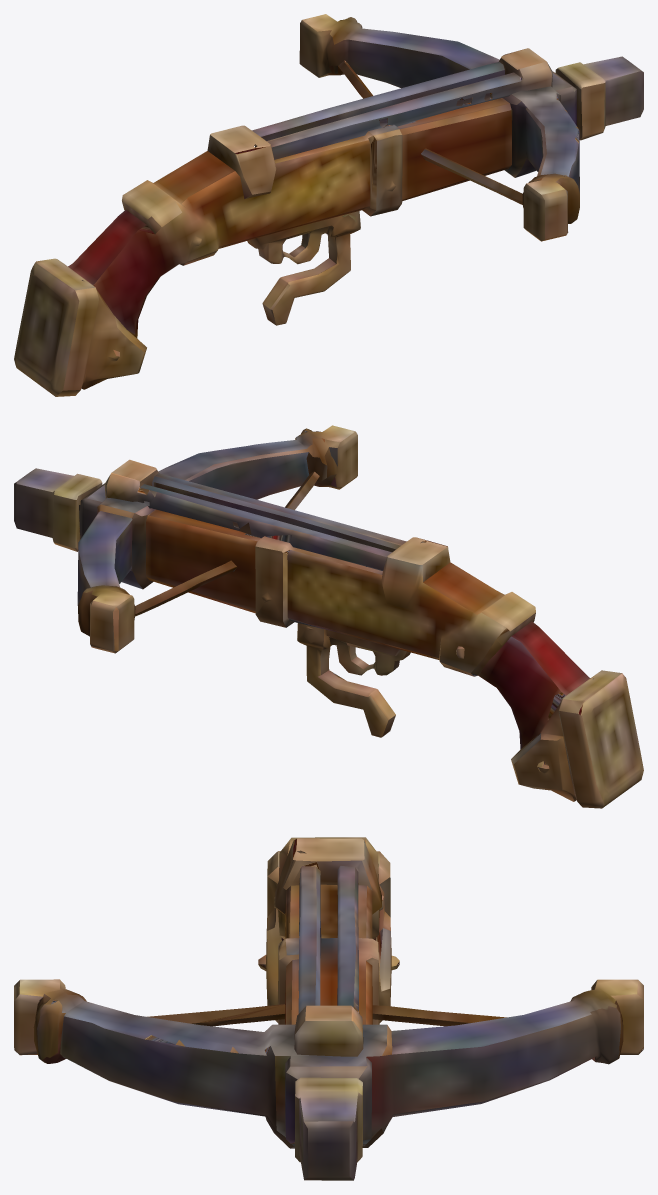
The model's file is siege_crossbow.glb.
3 renders of one model, top to bottom at view 1: azimuth 30°, elevation 25°; view 2: azimuth 150°, elevation 25°; view 3: azimuth 270°, elevation 25°, orthographic. The views are drawn at different scales.
Parts seen in each view (by area): view 1: world; view 2: world; view 3: world.
Boxes of the visible parts, x1,y1,x2,y2 form: world: [14, 14, 643, 396]; world: [14, 425, 643, 808]; world: [14, 837, 643, 1180].
Size of the model in its own units: 1 by 0.3323 by 0.7035.
1 material, 1 textured.
